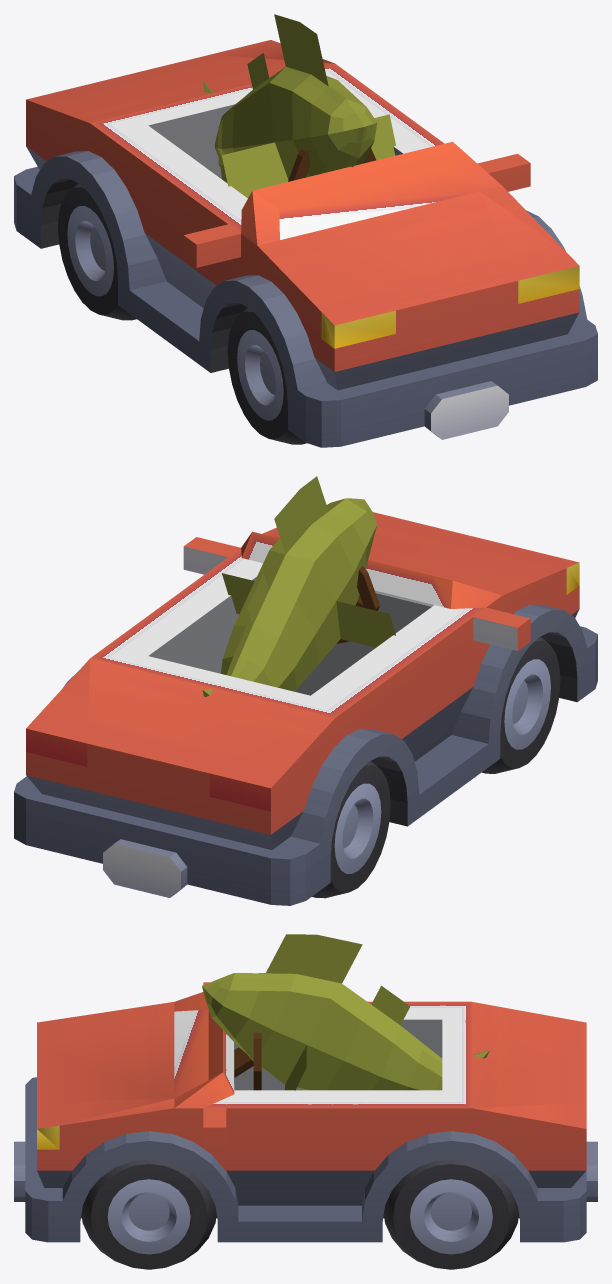
File: carro(1).glb
The picture shows the model from 3 angles, top to bottom: view 1: azimuth 30°, elevation 25°; view 2: azimuth 150°, elevation 25°; view 3: azimuth 270°, elevation 25°; orthographic projection. The views are drawn at different scales.
Visible parts, largest first — view 1: body, peixe, wheel-back-right, wheel-front-right, Circle; view 2: body, peixe, wheel-front-right, wheel-back-right, Circle; view 3: body, peixe, wheel-front-left, wheel-back-left, Circle.
Boxes of the visible parts, left/top/right/bottom form: body: left=14, top=40, right=597, bottom=447; peixe: left=202, top=14, right=395, bottom=197; wheel-back-right: left=58, top=183, right=136, bottom=320; wheel-front-right: left=227, top=307, right=306, bottom=444; Circle: left=288, top=148, right=376, bottom=181; body: left=14, top=512, right=597, bottom=905; peixe: left=202, top=476, right=395, bottom=696; wheel-front-right: left=482, top=636, right=560, bottom=773; wheel-back-right: left=312, top=761, right=390, bottom=898; Circle: left=336, top=566, right=379, bottom=643; body: left=14, top=982, right=597, bottom=1242; peixe: left=202, top=934, right=489, bottom=1090; wheel-front-left: left=81, top=1159, right=216, bottom=1269; wheel-back-left: left=383, top=1159, right=518, bottom=1269; Circle: left=234, top=1032, right=261, bottom=1090.
Size of the model in its own units: 1.5 by 1.38 by 2.55.
Materials: 3 (1 with a texture image).
